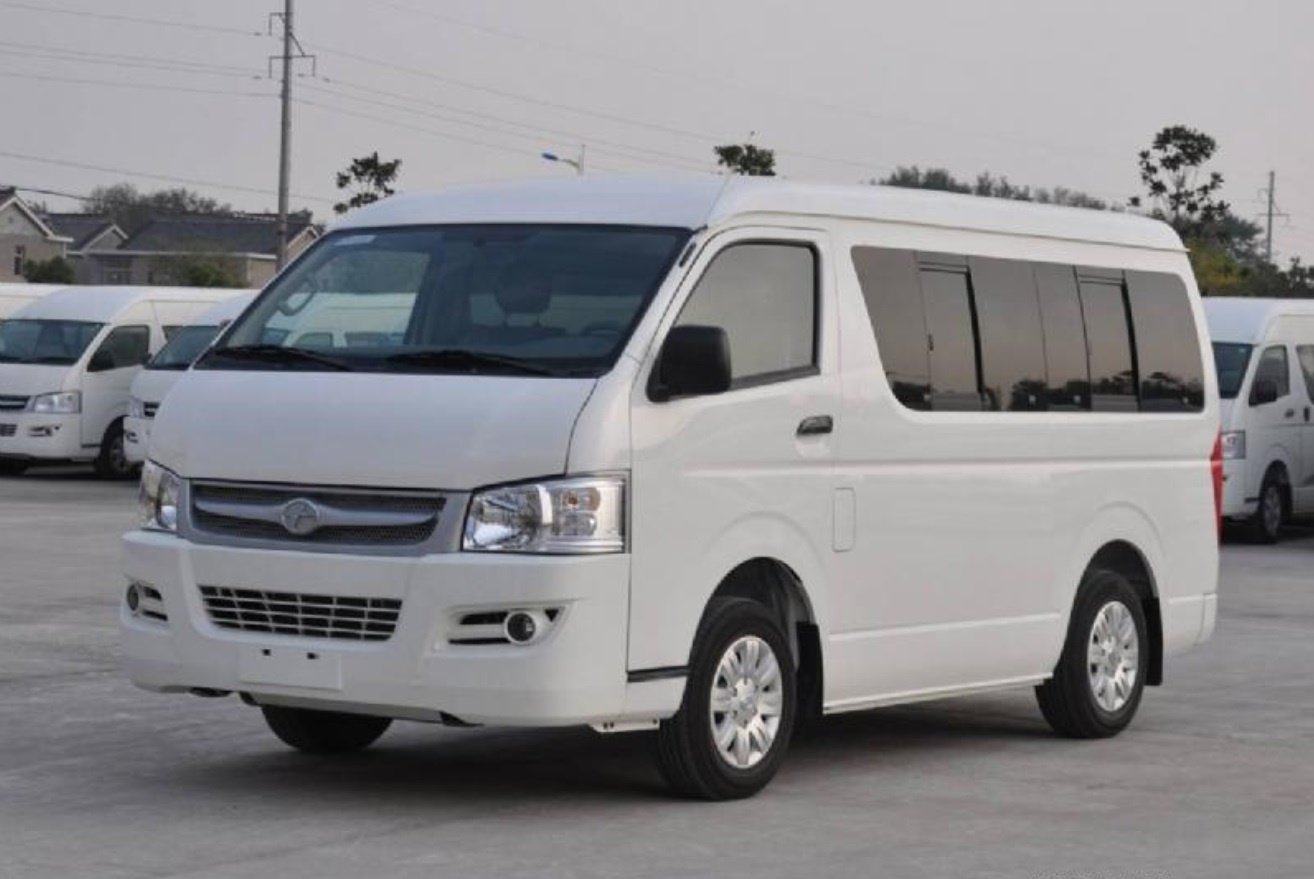minibus: (77, 167, 1261, 764)
